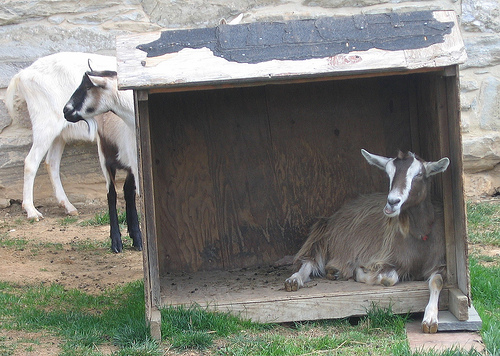goat: (282, 148, 451, 333), (5, 50, 142, 251)
